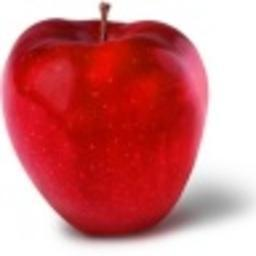apple: (1, 15, 209, 237)
